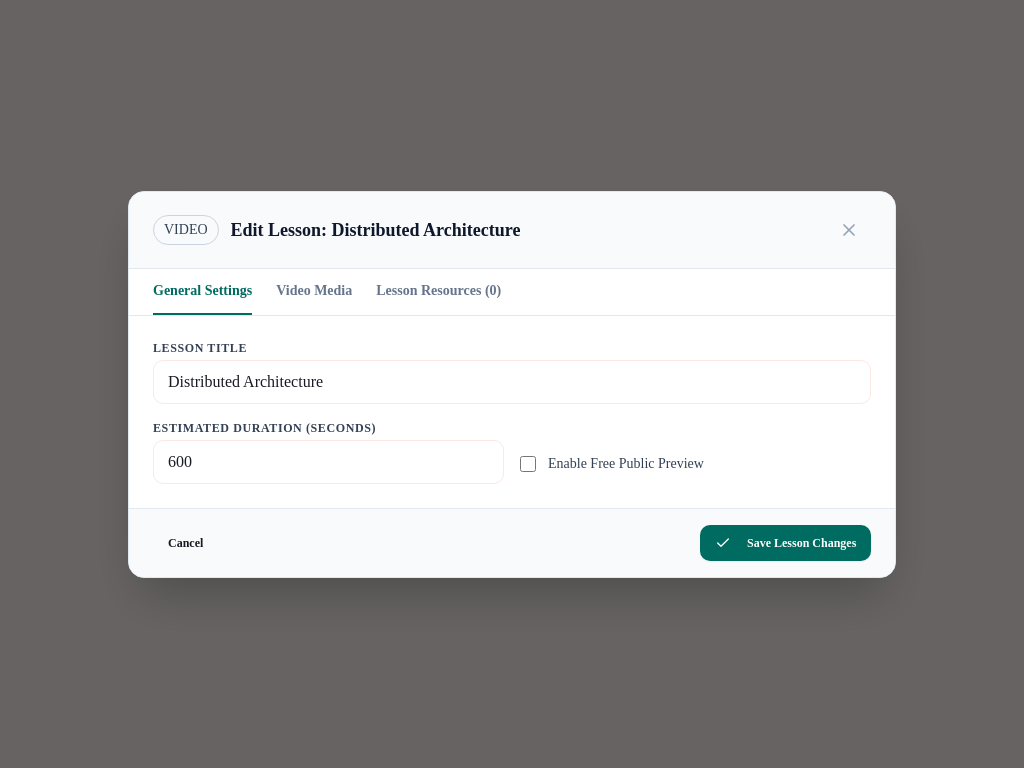
Test case: VM-01.1 Task C: Video MIME Selection Compatibility › Scenario 8c: LessonEditorModal loads existing lesson video ID via deterministic resolution order
The image size is (1024, 768).
# Switch to content tab
Step 1. Click the button "Video Media" → [314, 292], box [276,268,352,314]
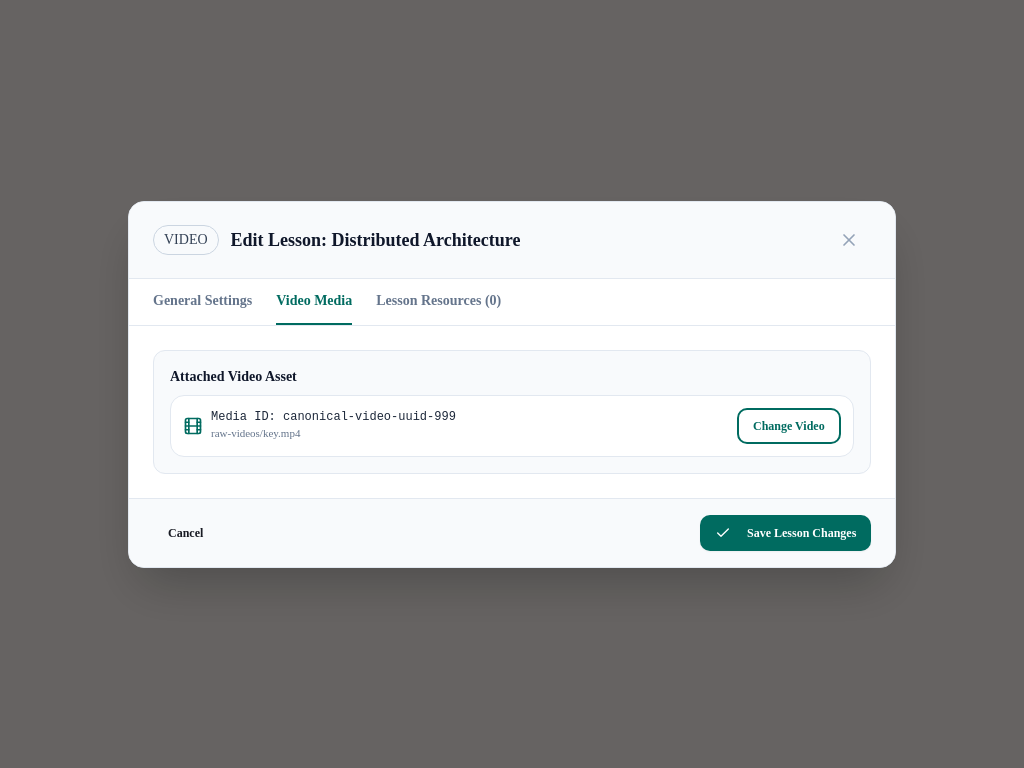
Expected: the text "Media ID: canonical-video-uuid-999" is shown, [211,409,456,425]
